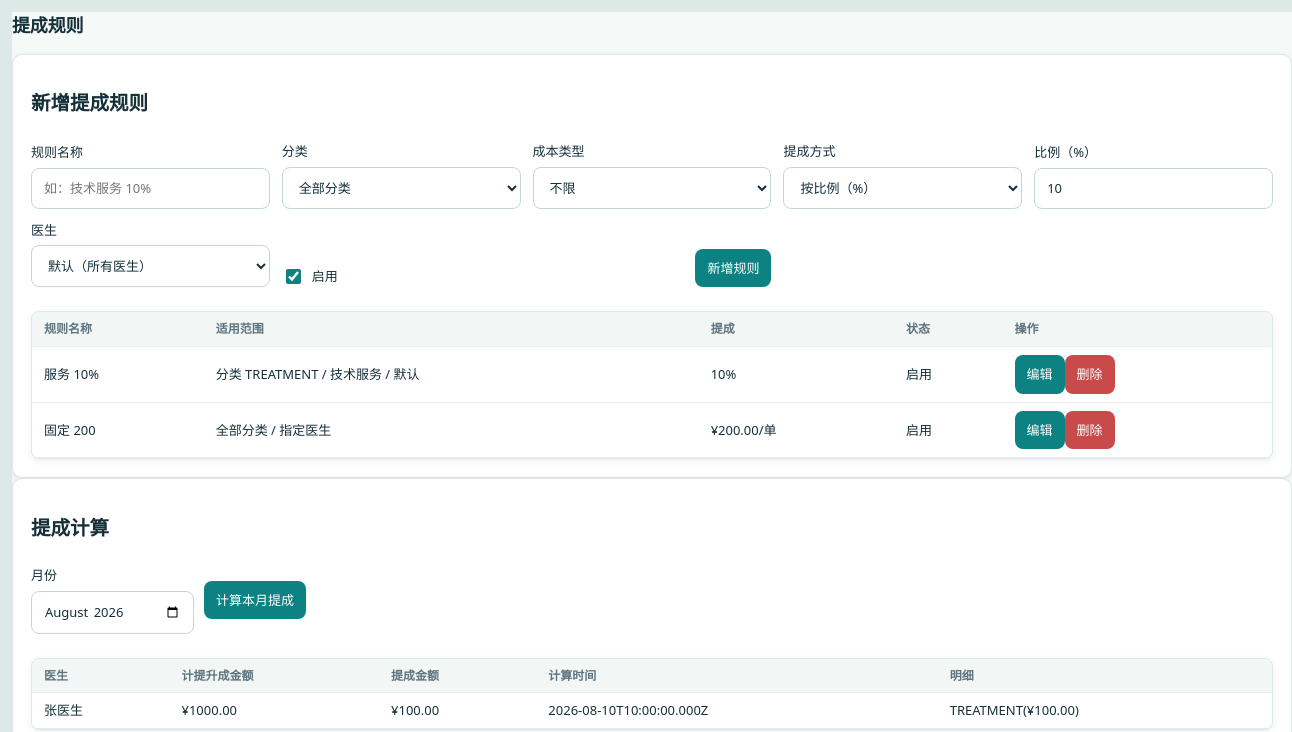
Scenario: CommissionPage › creates a rule with the expected payload
The image size is (1292, 732).
Expected: the text "服务 10%" is shown, [32, 346, 204, 402]
In the field labelled "规则名称": (150, 188) [31, 168, 270, 208], type "种植服务 5%"
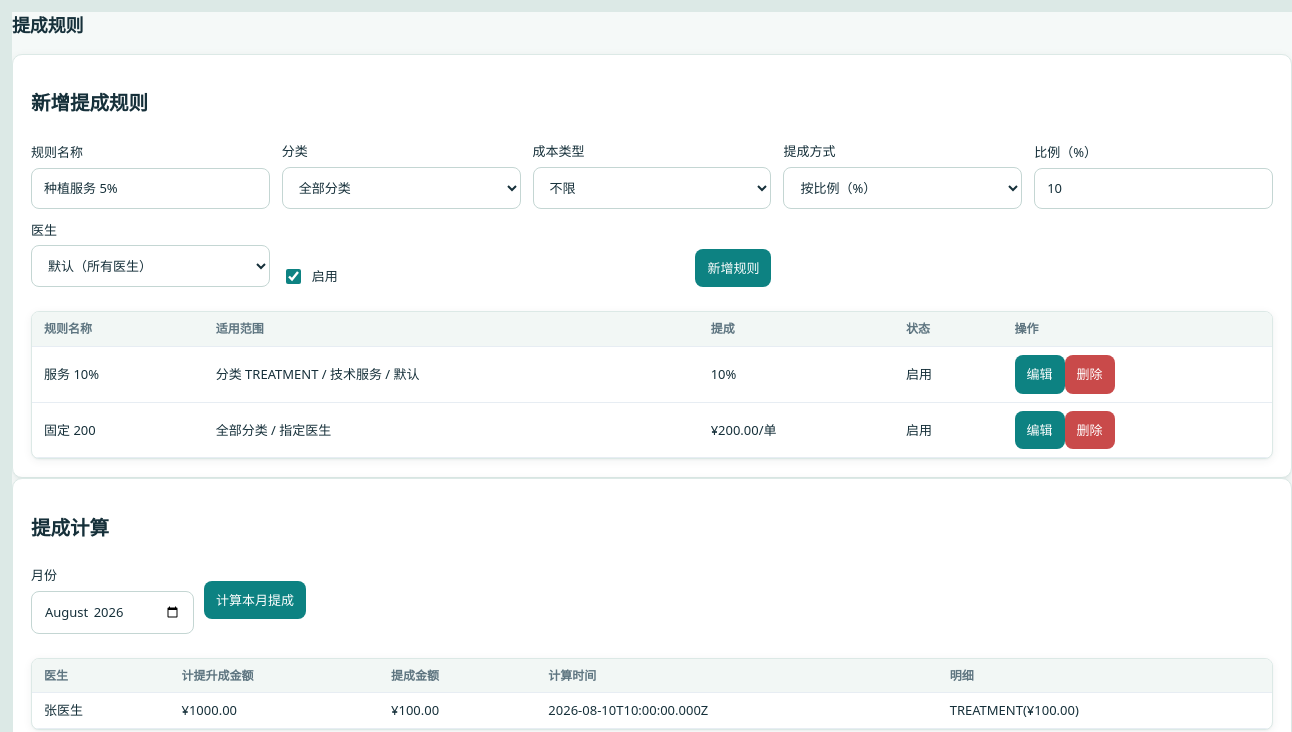
Select "TREATMENT" in the dropdown named "规则分类": (401, 188) [282, 166, 521, 208]
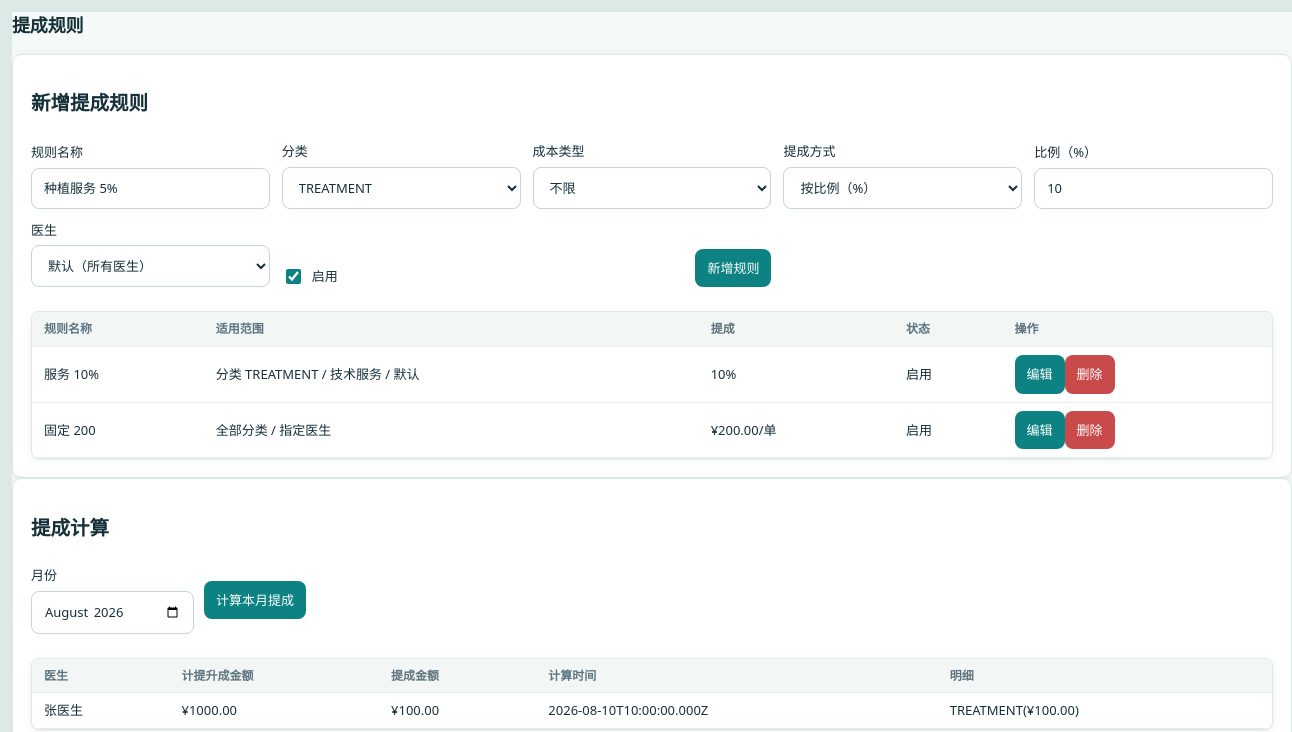
Select "按比例（%）" in the dropdown labelled "提成方式": (903, 188) [783, 166, 1022, 208]
Replace the text in the number field named "提成值" with "5": (1154, 188) [1034, 168, 1273, 208]
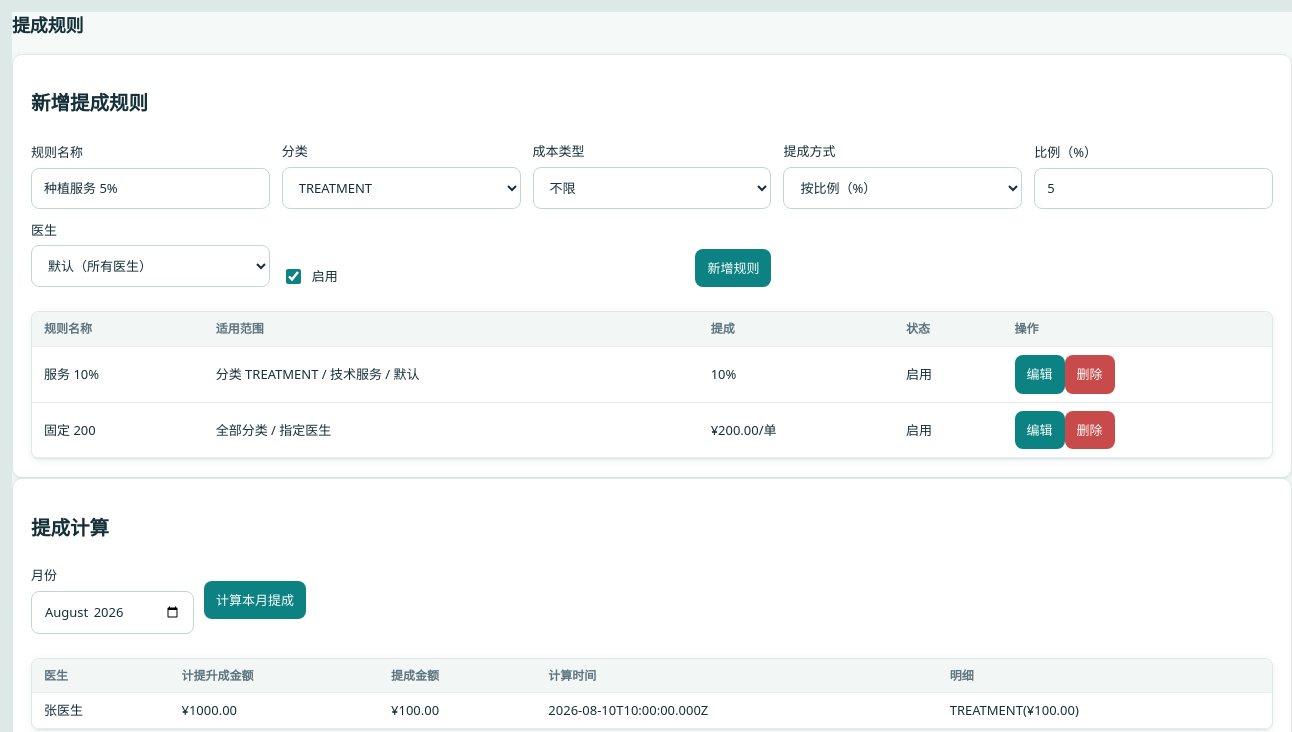
Click the button "新增规则": (733, 268) [695, 248, 771, 287]
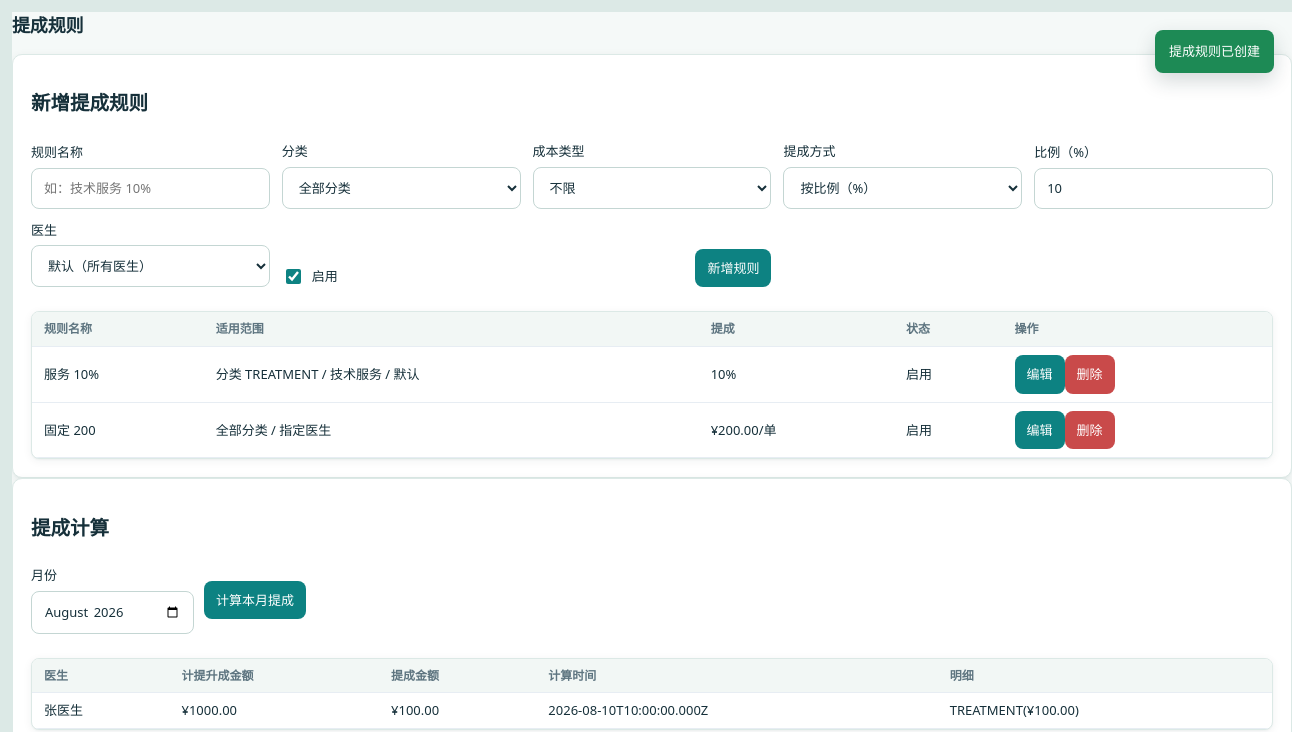
Expected: the text "提成规则已创建" is shown, [1155, 30, 1274, 73]
